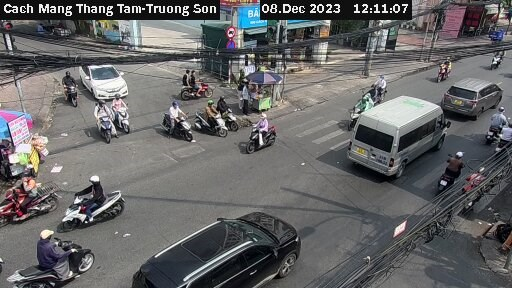car: (133, 211, 309, 288), (347, 95, 447, 179), (75, 55, 136, 97), (443, 73, 506, 113)
motorbike: (8, 232, 95, 288), (64, 178, 135, 222), (3, 175, 59, 223), (150, 102, 203, 145), (186, 103, 232, 143), (248, 115, 288, 158), (435, 153, 473, 194), (106, 93, 141, 125), (93, 105, 120, 140), (366, 74, 398, 98), (346, 94, 373, 118), (488, 42, 508, 70), (435, 58, 455, 81)
